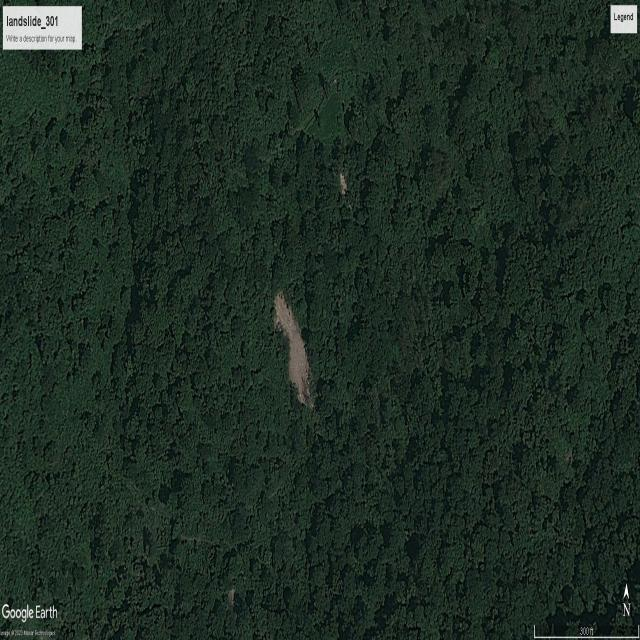Landslide: (270, 281, 320, 417)
